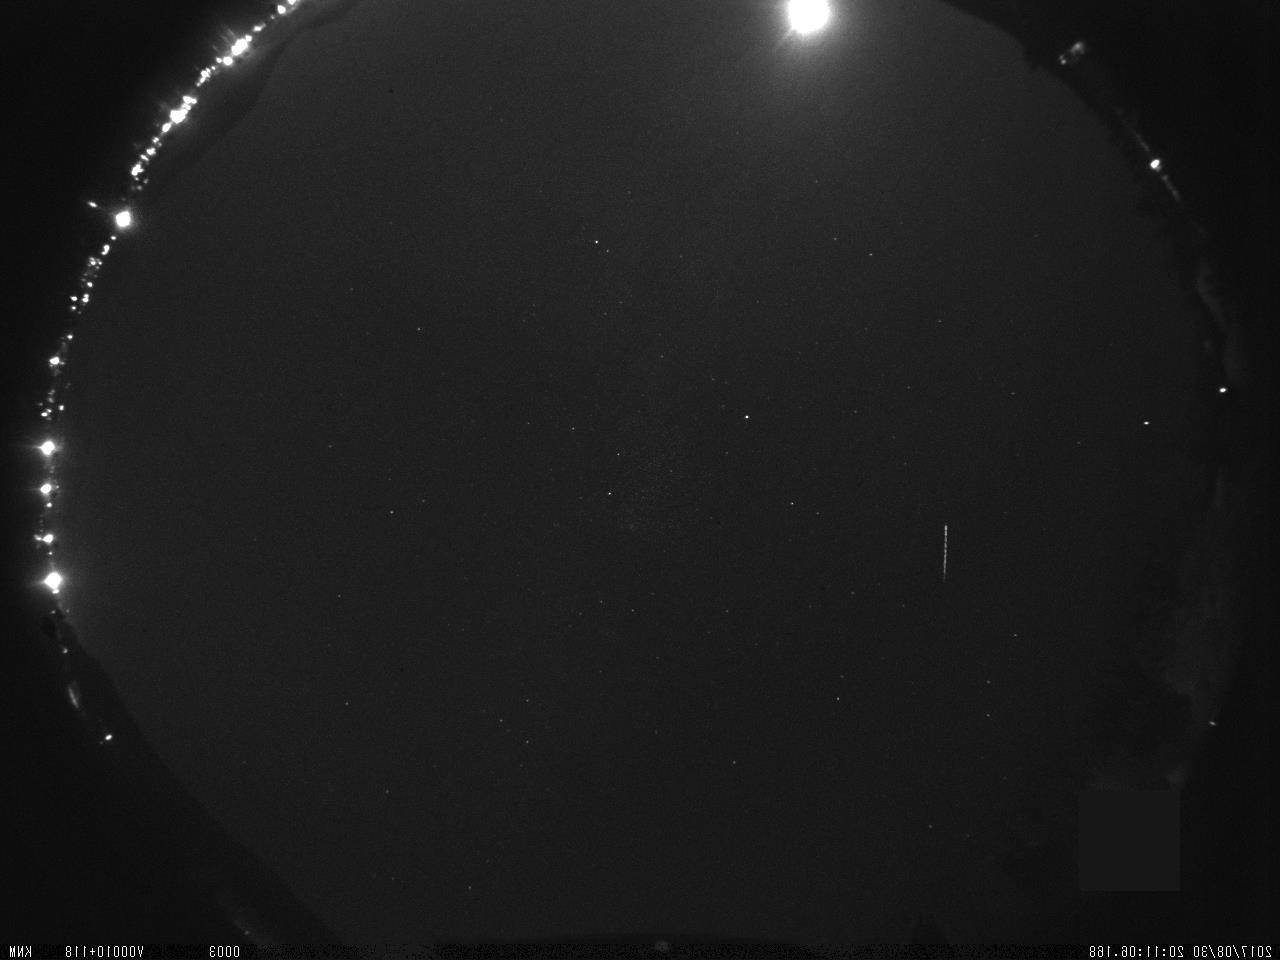meteor: (923, 511, 973, 591)
